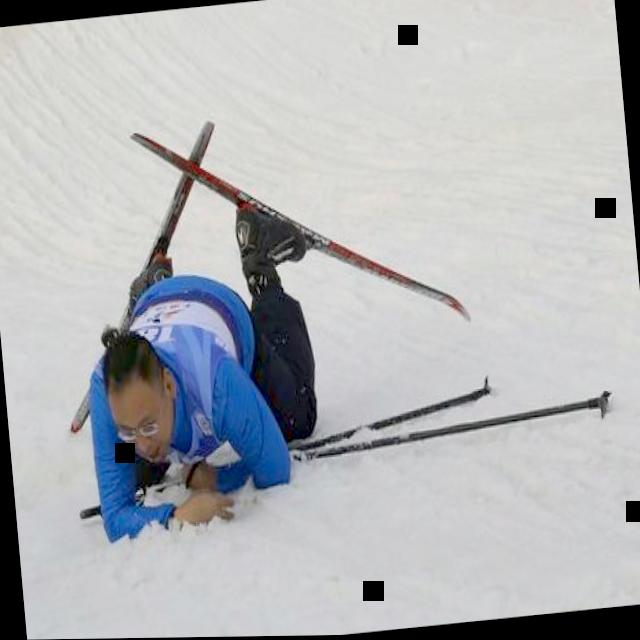Fall-Detected: (37, 158, 355, 564)
